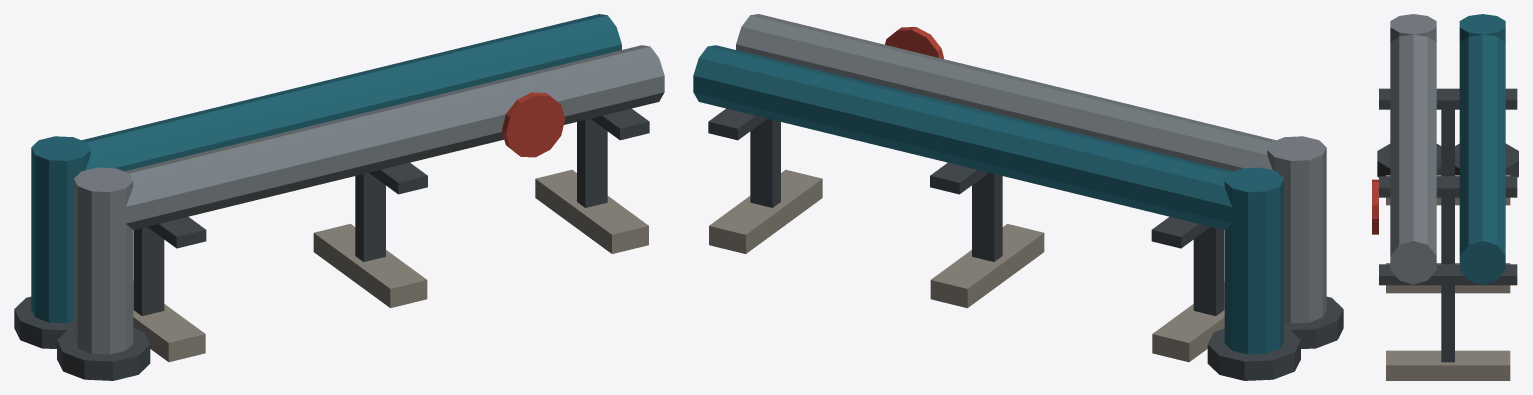
Rendered from w-pipes.glb.
3 renders of one model, left to right at view 1: azimuth 30°, elevation 25°; view 2: azimuth 150°, elevation 25°; view 3: azimuth 270°, elevation 25°, orthographic. The views are drawn at different scales.
Parts seen in each view (by area): view 1: w-pipes; view 2: w-pipes; view 3: w-pipes.
Part boxes in pixels (left/top/right/bottom): w-pipes: left=14, top=14, right=664, bottom=380; w-pipes: left=693, top=14, right=1343, bottom=380; w-pipes: left=1372, top=14, right=1518, bottom=380.
Size of the model in its own units: 1.59 by 0.4801 by 0.4245.
